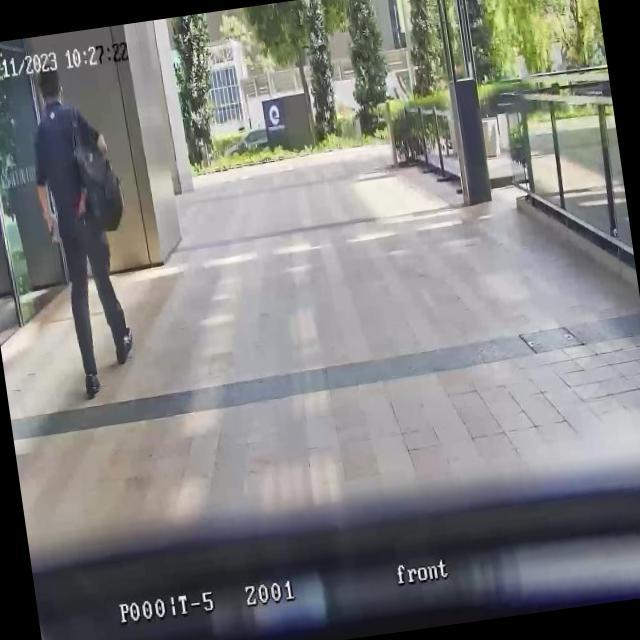person: (20, 61, 144, 402)
